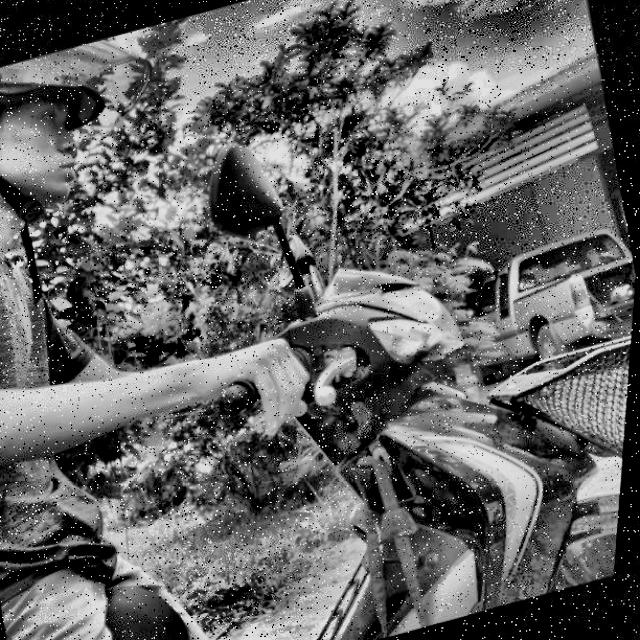Helmet: (0, 22, 190, 248)
